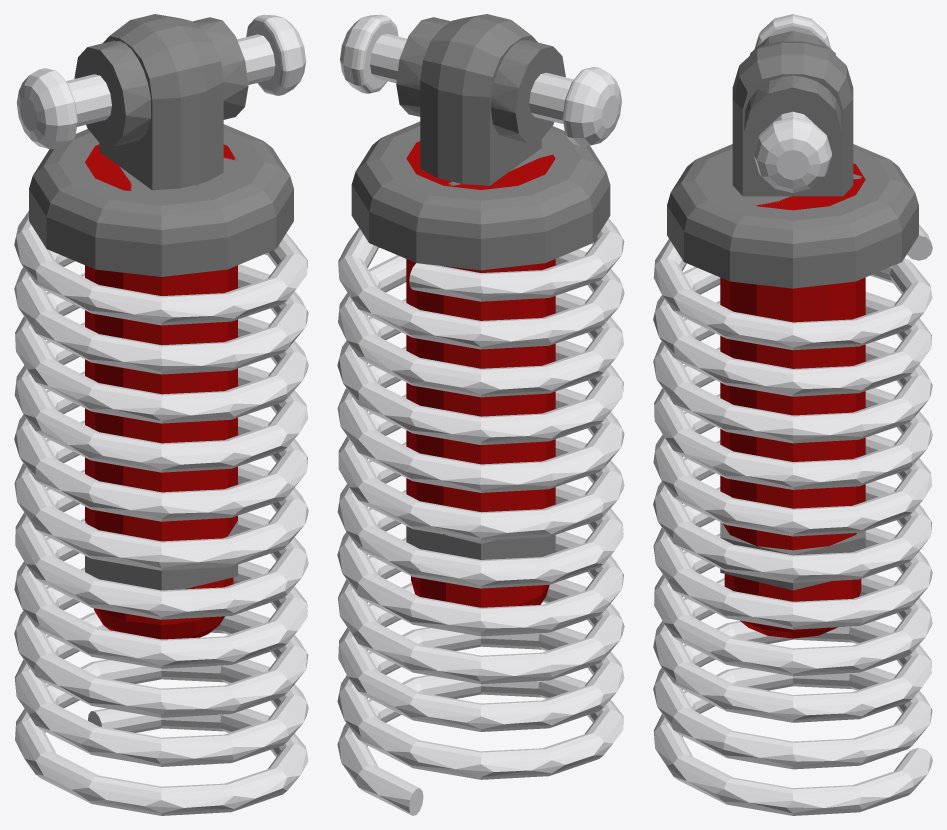
File: shock_rb_1_vis.dae
3 views of the same model, side by side, from view 1: azimuth 30°, elevation 25°; view 2: azimuth 150°, elevation 25°; view 3: azimuth 270°, elevation 25° (orthographic). The views are drawn at different scales.
Visible parts, largest first — view 1: shock_rb_1_vis; view 2: shock_rb_1_vis; view 3: shock_rb_1_vis.
Boxes of the visible parts, <box> form: shock_rb_1_vis: <box>14,14,308,815</box>; shock_rb_1_vis: <box>337,14,624,815</box>; shock_rb_1_vis: <box>653,14,932,815</box>.
Bounding box in the file's own units: 0.052 × 0.05 × 0.1428.
